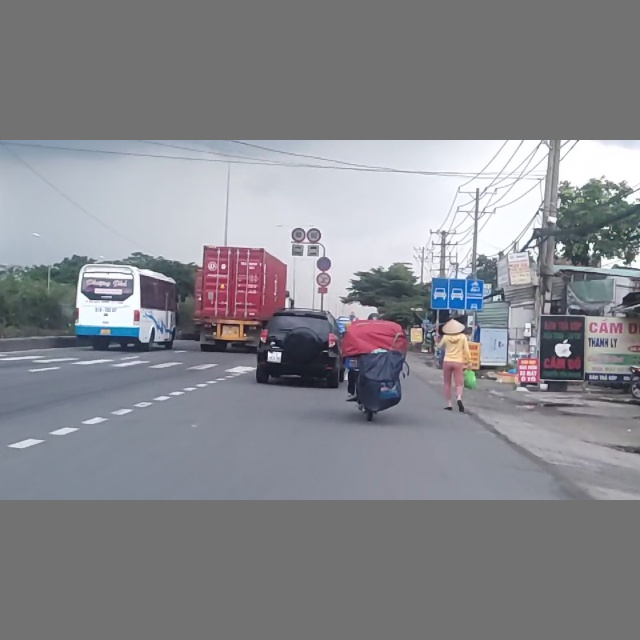P.111: (317, 273, 331, 286)
P.127*60: (307, 229, 321, 242)
P.127*80: (292, 228, 305, 242)
P.130: (316, 257, 332, 271)
R.415a: (431, 277, 484, 311)
